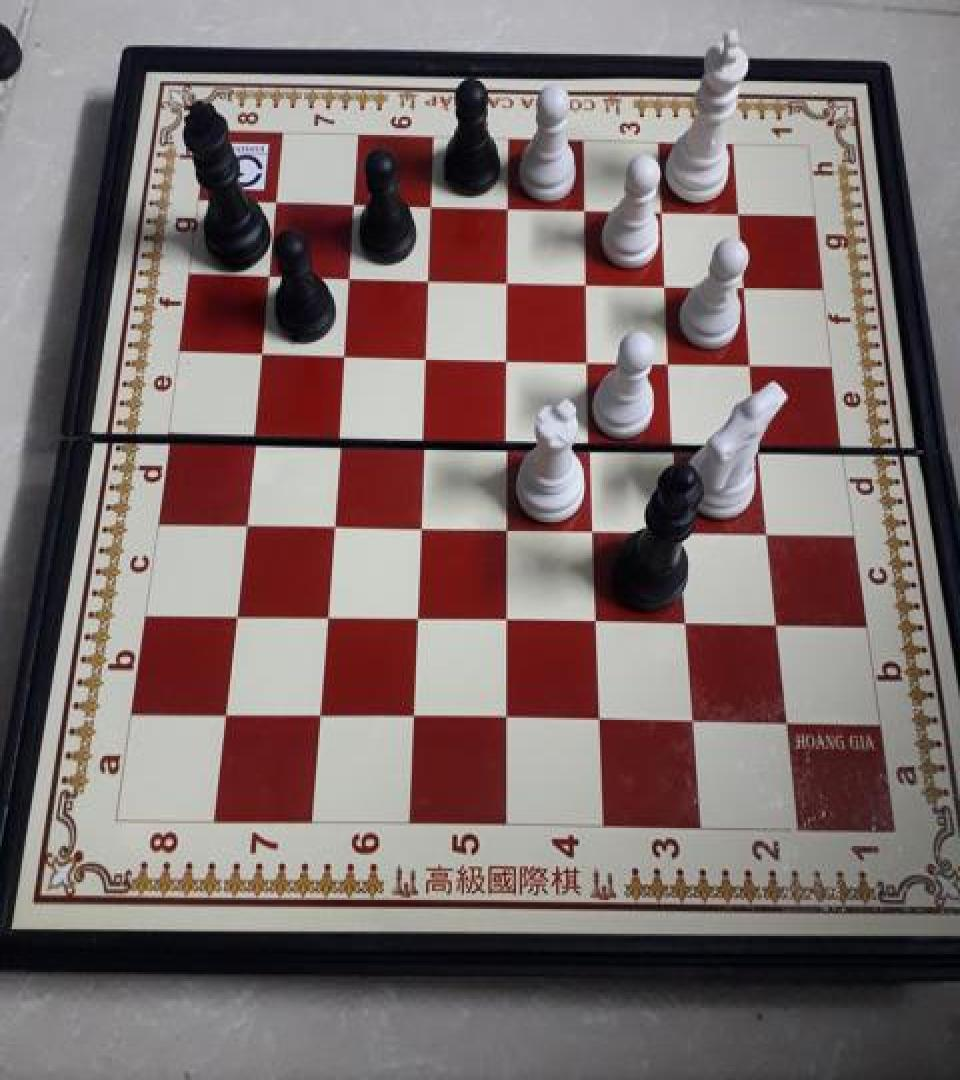xcorner: (400, 696, 432, 733), (494, 696, 526, 733), (587, 697, 619, 734), (679, 698, 711, 735), (211, 694, 243, 730), (306, 695, 338, 731), (771, 700, 803, 736), (221, 593, 253, 629), (313, 594, 345, 630), (404, 595, 436, 631), (494, 596, 526, 632), (584, 598, 616, 634), (673, 600, 705, 636), (761, 601, 793, 637), (231, 500, 263, 536), (319, 500, 351, 536), (407, 502, 439, 538), (494, 504, 526, 540), (580, 505, 612, 541), (666, 506, 698, 542), (752, 508, 784, 544), (240, 412, 272, 448), (325, 413, 357, 449), (410, 415, 442, 451), (494, 416, 526, 452), (578, 418, 610, 454), (661, 420, 693, 456), (743, 422, 775, 458), (248, 330, 280, 366), (330, 332, 362, 368), (413, 333, 445, 369), (494, 335, 526, 371), (575, 338, 607, 374), (655, 338, 687, 374), (735, 341, 767, 377), (256, 253, 288, 289), (336, 256, 368, 292), (415, 258, 447, 294), (494, 259, 526, 295), (573, 261, 605, 297), (651, 263, 683, 299), (728, 266, 760, 302), (263, 181, 295, 217), (341, 184, 373, 220), (494, 188, 526, 224), (570, 190, 602, 226), (418, 186, 450, 221), (646, 193, 678, 228), (721, 195, 753, 230)
